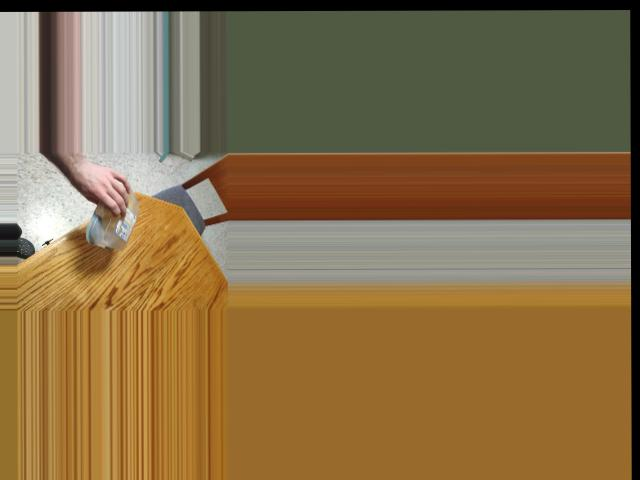cheese: (92, 190, 134, 243)
